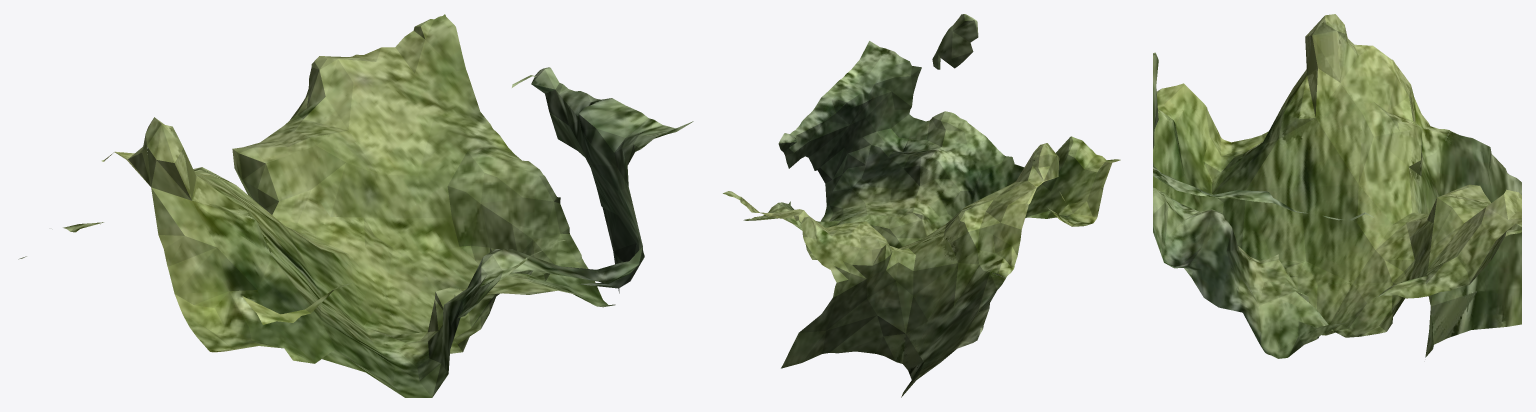
The picture shows the model from 3 angles, left to right: view 1: azimuth 30°, elevation 25°; view 2: azimuth 150°, elevation 25°; view 3: azimuth 270°, elevation 25°; orthographic projection. The views are drawn at different scales.
Bounding box in the file's own units: 2.95 × 2.82 × 2.95.
4 materials, 4 textured.
